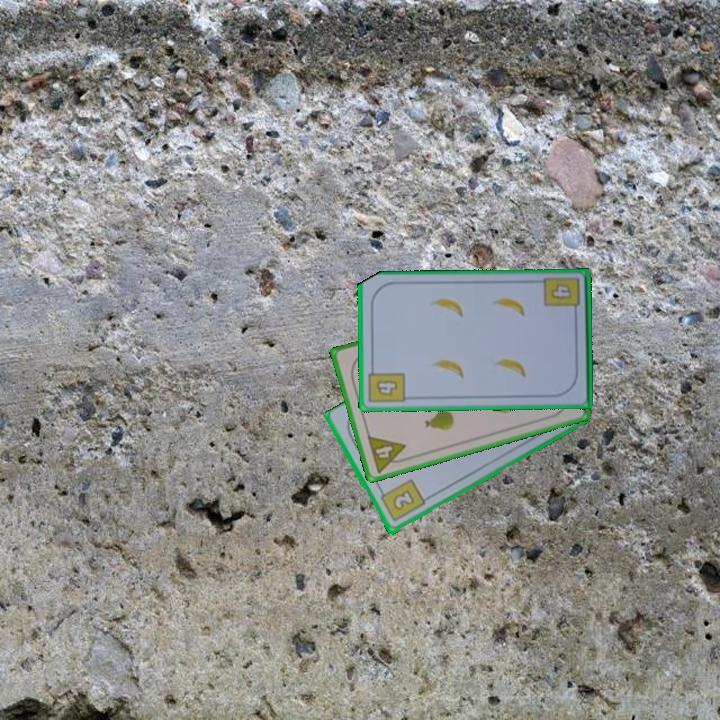2b: (376, 476, 428, 525)
4b: (365, 362, 408, 406), (541, 274, 583, 318)
4p: (364, 432, 412, 476)
